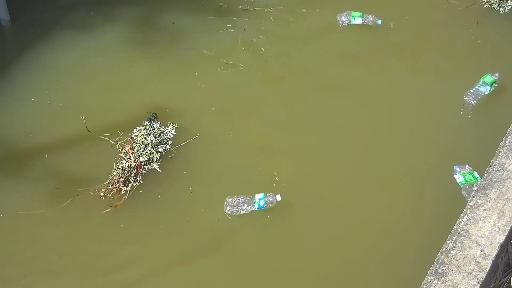plastic: (221, 188, 286, 215), (463, 69, 501, 107), (332, 5, 390, 29), (447, 162, 484, 198)
twig: (61, 106, 205, 216), (462, 0, 512, 7)
